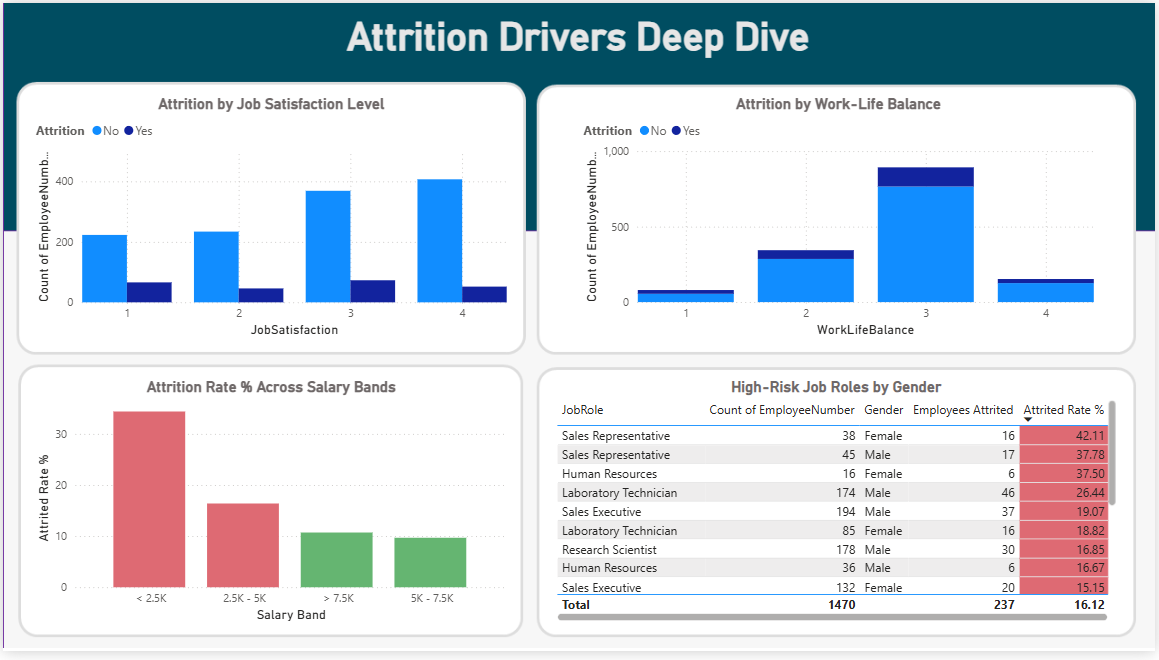

The dashboard page shown, as its layout file describes it:
{"tool":"powerbi","page":{"name":"Risk Analysis","canvas":[1280,720],"ordinal":1},"visuals":[{"type":"textbox","title":"Attrition Drivers Deep Dive","box":[18.5,11.8,1241.9,58.8],"z":0},{"type":"clusteredColumnChart","title":"Attrition by Job Satisfaction Level","fields":{"Category":["attrition.JobSatisfaction"],"Series":["attrition.Attrition"],"Y":["CountNonNull(attrition.EmployeeNumber)"]},"box":[31.8,101.8,532.9,273.6],"z":1000},{"type":"lineStackedColumnComboChart","title":"Attrition by Work-Life Balance","fields":{"Category":["attrition.WorkLifeBalance"],"Y":["CountNonNull(attrition.EmployeeNumber)"],"Series":["attrition.Attrition"]},"box":[640,101.7,576.7,273.3],"z":2000},{"type":"clusteredColumnChart","title":"Attrition Rate %  Across Salary Bands","fields":{"Category":["attrition.Salary Band"],"Y":["metrics.Attrited Rate %"]},"box":[31.8,416.7,532.9,275.2],"z":3000},{"type":"tableEx","title":"High-Risk Job Roles by Gender","fields":{"Values":["attrition.JobRole","CountNonNull(attrition.EmployeeNumber)","attrition.Gender","metrics.Employees Attrited","metrics.Attrited Rate %"]},"box":[610,416.7,631.7,275],"z":4000}]}

Visuals, with their boxes in screenshot pixels (x1, y1, x2, y2), scaled from the page's 1280x720 canvas onto the 1159x660 screenshot:
"Attrition Drivers Deep Dive" textbox: l=17, t=11, r=1141, b=65
"Attrition by Job Satisfaction Level" clusteredColumnChart: l=29, t=93, r=511, b=344
"Attrition by Work-Life Balance" lineStackedColumnComboChart: l=580, t=93, r=1102, b=344
"Attrition Rate %  Across Salary Bands" clusteredColumnChart: l=29, t=382, r=511, b=634
"High-Risk Job Roles by Gender" tableEx: l=552, t=382, r=1124, b=634
